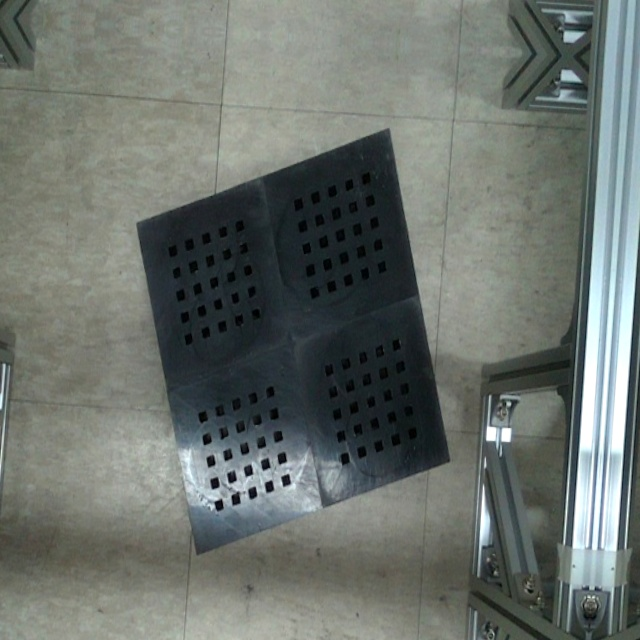pallet: (103, 102, 483, 583)
